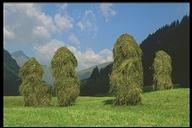cloud: (6, 4, 73, 39)
grass: (11, 107, 187, 125)
mountain: (86, 7, 185, 89)
sky: (58, 5, 117, 39)
tree: (108, 31, 146, 111), (50, 45, 81, 107), (18, 56, 49, 108), (151, 48, 175, 92)
